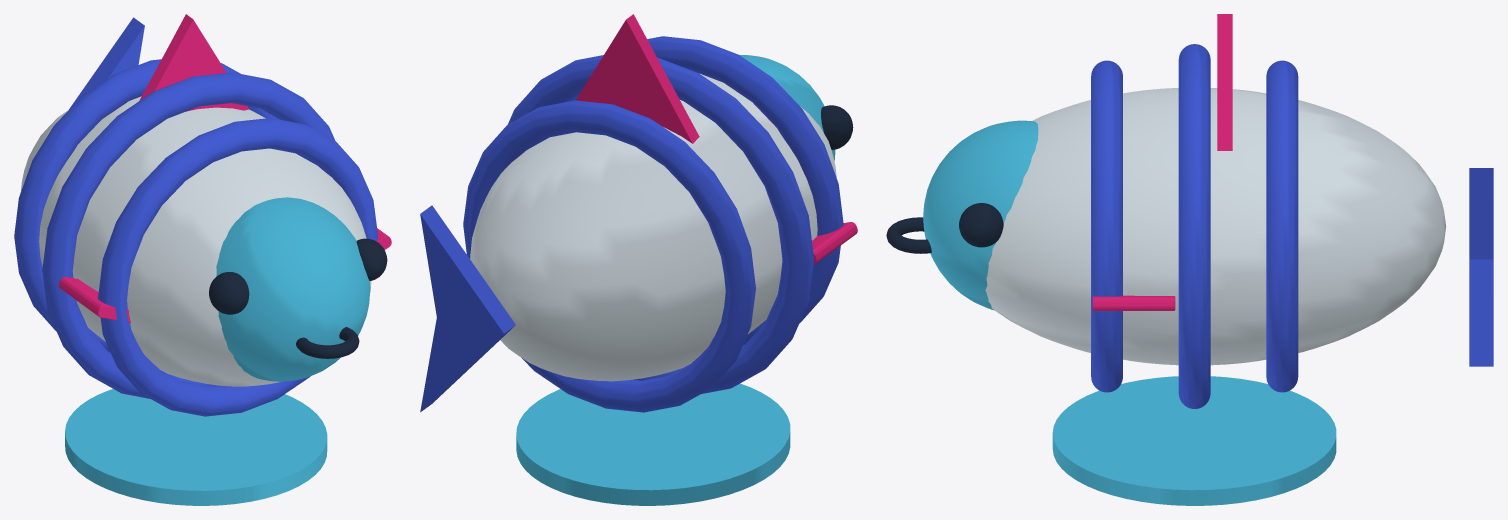
File: 0475_鱼类图鉴_电鳐.glb
The picture shows the model from 3 angles, left to right: view 1: azimuth 30°, elevation 25°; view 2: azimuth 150°, elevation 25°; view 3: azimuth 270°, elevation 25°; orthographic projection. The views are drawn at different scales.
Visible parts, largest first — view 1: card_0475; view 2: card_0475; view 3: card_0475.
Boxes of the visible parts, x1,y1,x2,y2 form: card_0475: [14, 14, 391, 505]; card_0475: [420, 14, 857, 505]; card_0475: [886, 14, 1493, 505].
Size of the model in its own units: 0.7567 by 1 by 1.25.
